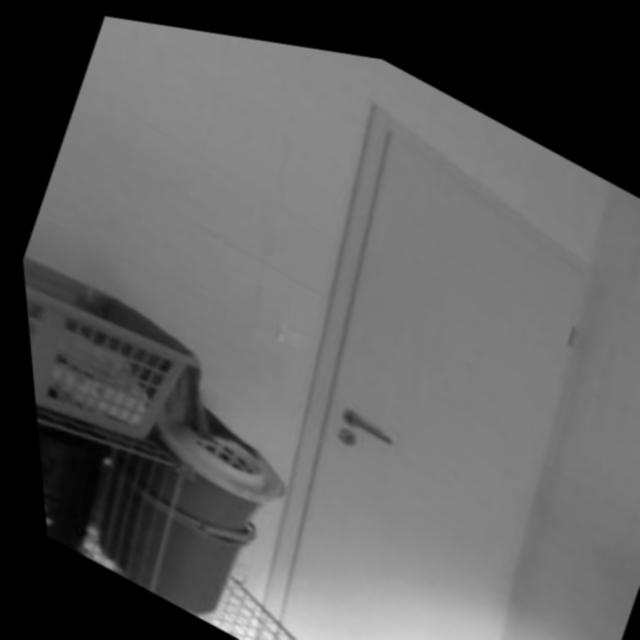door_handle: (326, 386, 397, 446)
